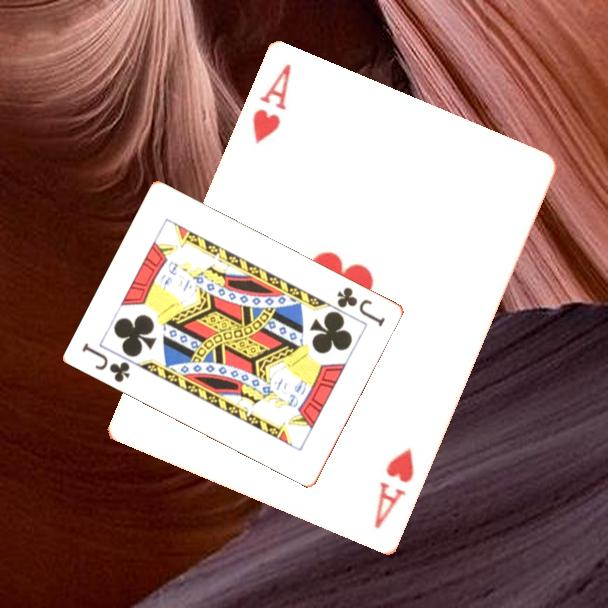c11: (333, 283, 388, 330), (79, 339, 133, 385)
h01: (371, 445, 418, 533), (249, 61, 295, 148)
